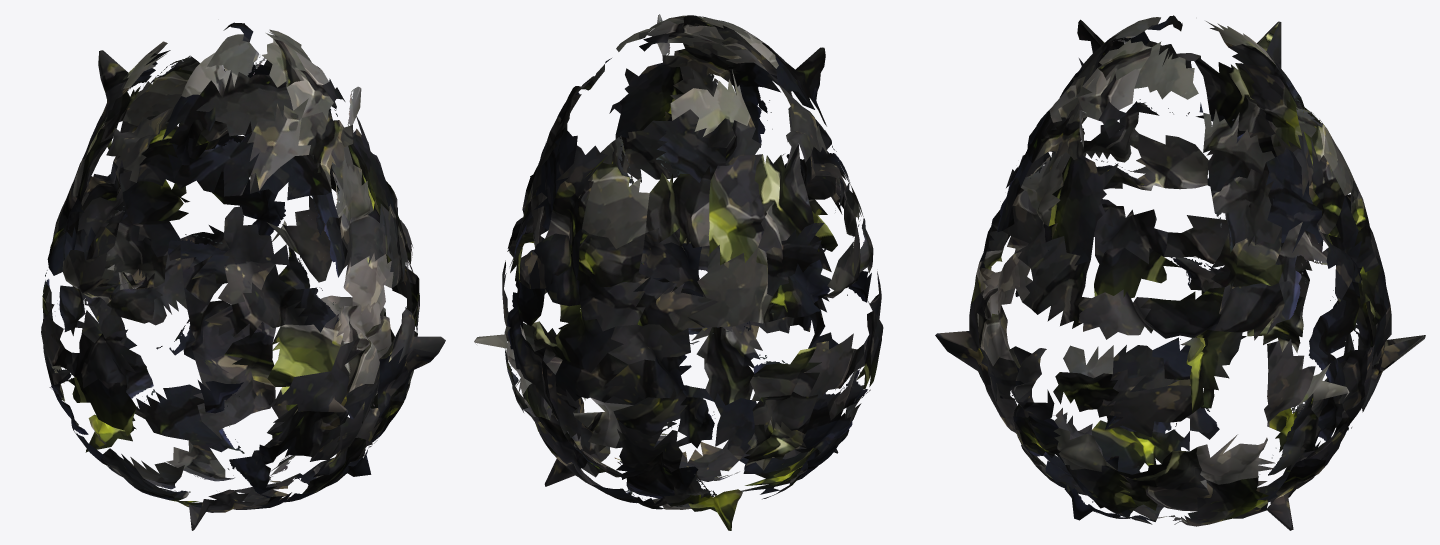
File: ash_egg_10k.fbx
The picture shows the model from 3 angles, left to right: view 1: azimuth 30°, elevation 25°; view 2: azimuth 150°, elevation 25°; view 3: azimuth 270°, elevation 25°; orthographic projection. The views are drawn at different scales.
Parts seen in each view (by area): view 1: ash_egg_decimated; view 2: ash_egg_decimated; view 3: ash_egg_decimated.
Boxes of the visible parts, box(x1,y1,x2,y2) form: ash_egg_decimated: box(41, 22, 445, 530); ash_egg_decimated: box(474, 14, 883, 530); ash_egg_decimated: box(935, 15, 1425, 530).
Bounding box in the file's own units: 1.56 × 1.91 × 1.74.
